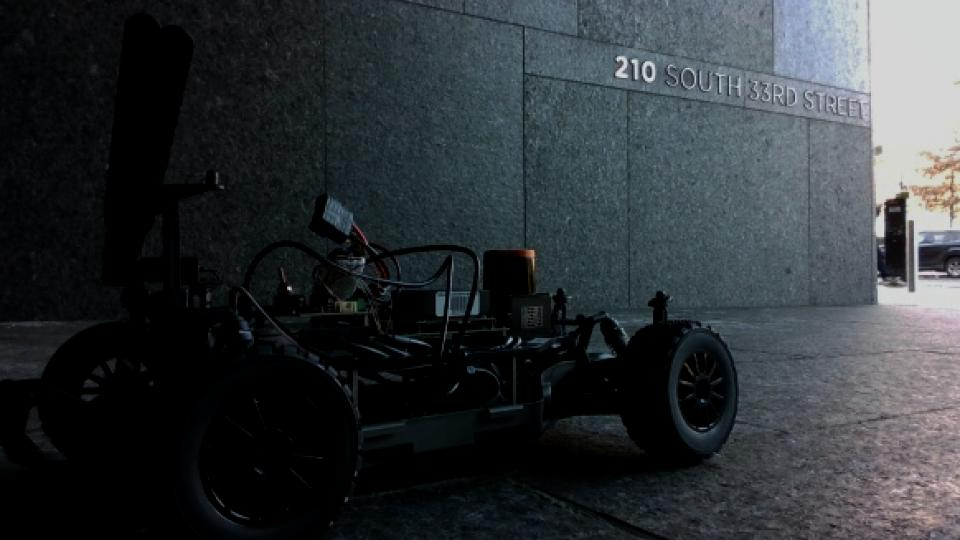car: (0, 8, 742, 539)
